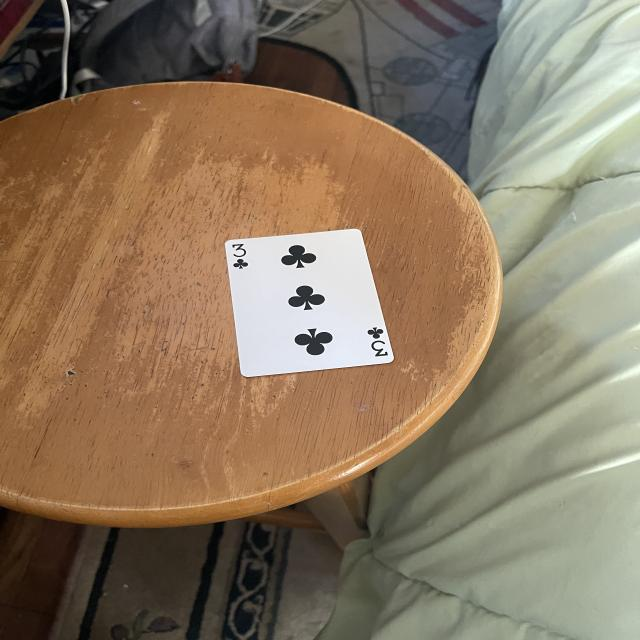3 of clubs: (223, 228, 394, 379)
